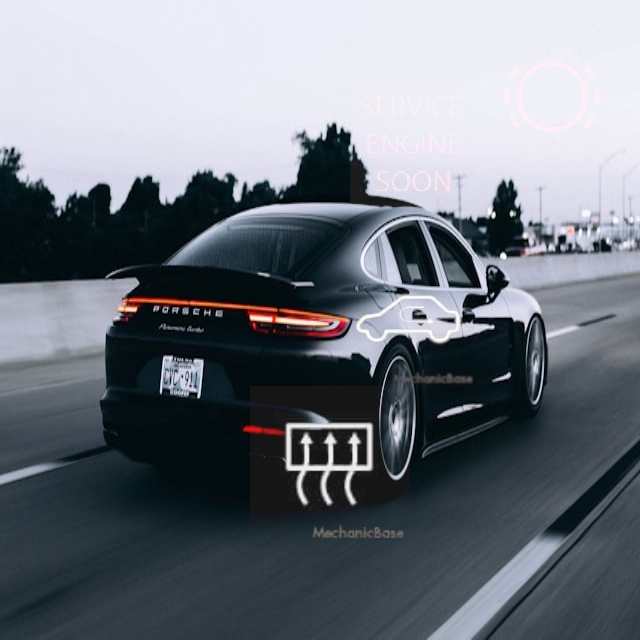symbol: (250, 386, 410, 546), (482, 28, 622, 168), (339, 251, 478, 390), (350, 85, 471, 206)
